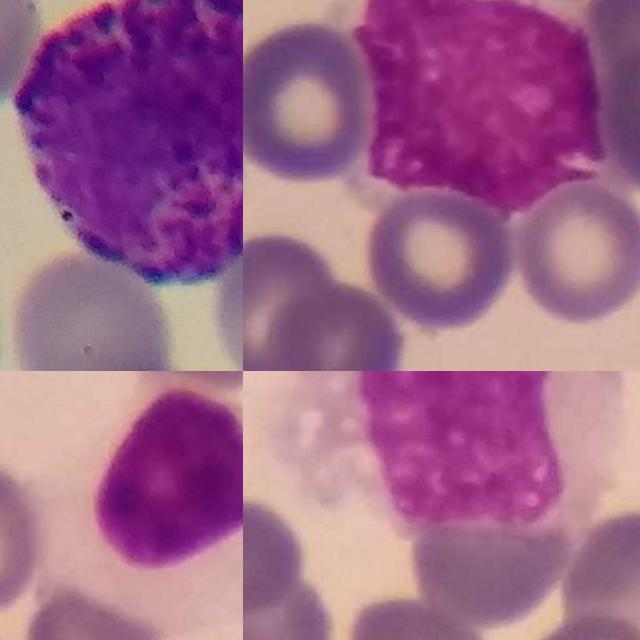Basophil: (15, 0, 243, 288)
Lymphocyte: (43, 385, 243, 622)
Monocyte: (340, 0, 614, 215), (278, 371, 625, 536)
